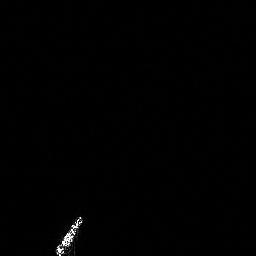ship: (51, 212, 86, 256)
